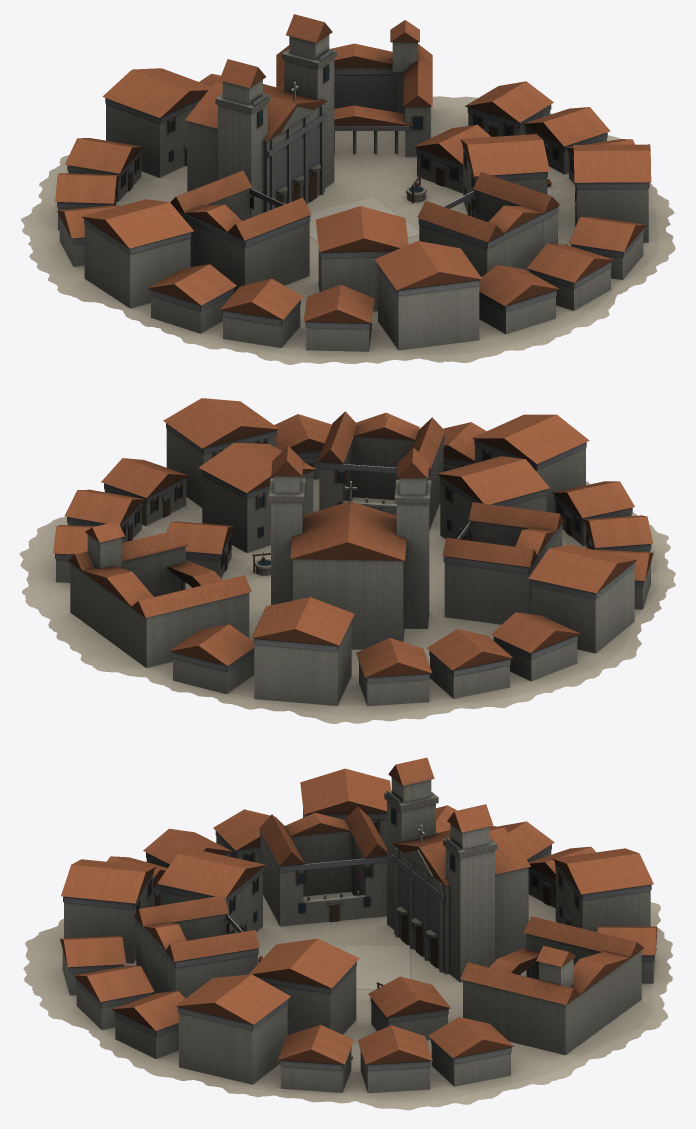
File: gunpowder-town-big-a-americas.glb
3 renders of one model, top to bottom at view 1: azimuth 30°, elevation 25°; view 2: azimuth 150°, elevation 25°; view 3: azimuth 270°, elevation 25°, orthographic.
Visible parts, largest first — view 1: LOD0; view 2: LOD0; view 3: LOD0.
Boxes of the visible parts, x1,y1,x2,y2 form: LOD0: (20, 14, 675, 364); LOD0: (19, 398, 675, 723); LOD0: (23, 757, 672, 1110).
Size of what is drawn, in the model's own units: 8.06 by 2.19 by 7.91.
3 materials, 3 textured.
